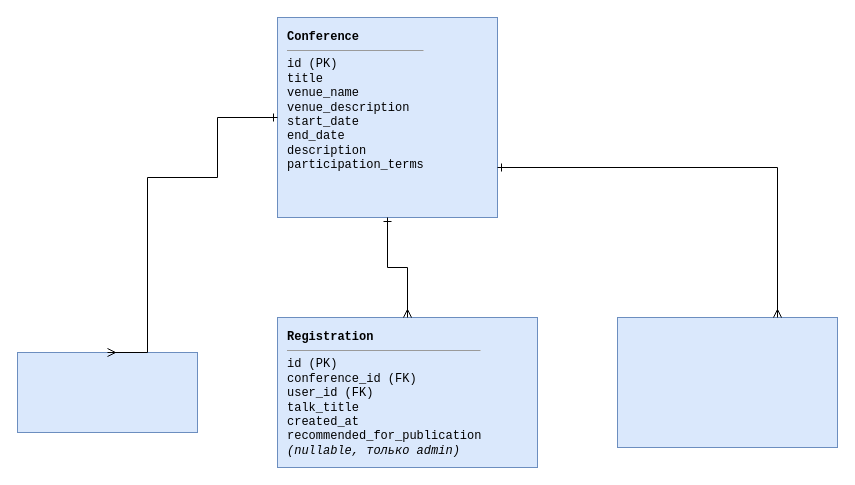
The diagram is 855 pixels wide and 485 high, and some of its shapes have lost their labels. Here are the shapes that lost their labels. From the top down, the box of each, then its label:
(16, 352, 198, 432): Topic id (PK) name
(616, 316, 838, 448): Review id (PK) conference_id (FK) author_id (FK) rating (1..10) text created_at
